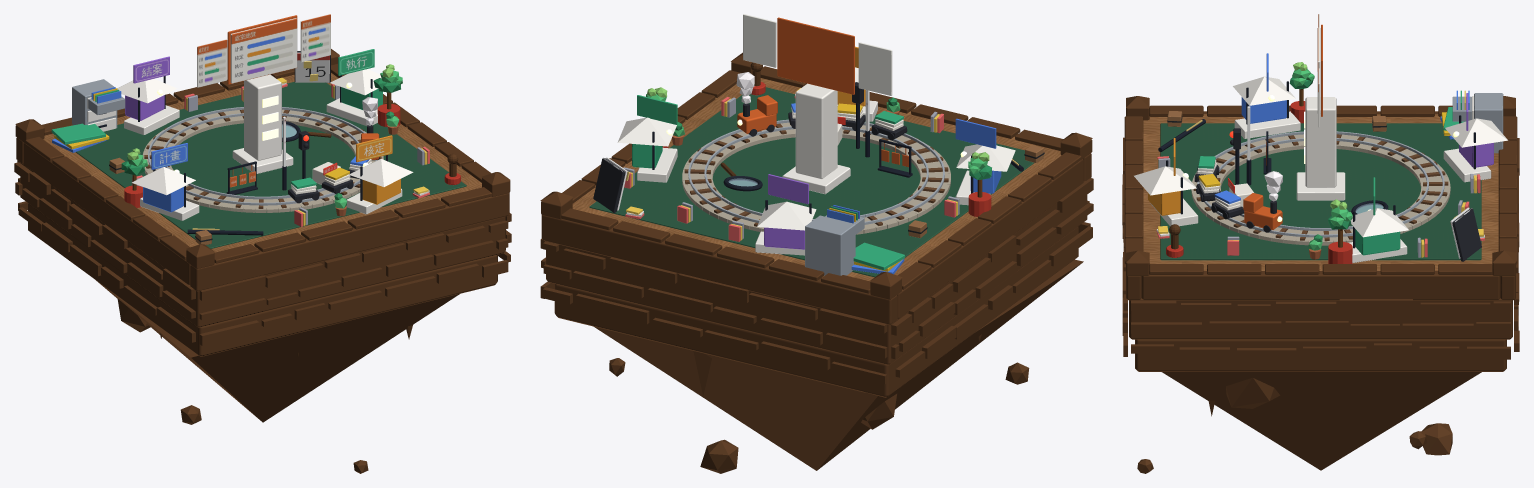
The model's file is admin.glb.
3 views of the same model, side by side, from view 1: azimuth 30°, elevation 25°; view 2: azimuth 150°, elevation 25°; view 3: azimuth 270°, elevation 25° (orthographic). The views are drawn at different scales.
Visible parts, largest first — view 1: desk_desk_dark, desk_felt, desk_white.001, desk_desk, desk_ballast, overview_overview, desk_rail, props_props_palette, desk_pen, fxhide_ovr_overview, fxhide_ovl_overview, desk_sleeper (+14 smaller); view 2: desk_desk_dark, desk_felt, desk_white.001, desk_desk, desk_ballast, overview_engine, props_props_palette, desk_cabinet, desk_rail, desk_sleeper, fxhide_ovl_overview, fxhide_ovr_overview (+11 smaller); view 3: desk_desk_dark, desk_felt, desk_white.001, desk_desk, desk_ballast, desk_rail, props_props_palette, desk_sleeper, desk_pen, desk_engine_dark, desk_cabinet, desk_stamp_red (+9 smaller).
Part boxes in pixels (box(x1,y1,x2,y2)): desk_desk_dark: box(14, 49, 511, 473); desk_felt: box(76, 82, 466, 248); desk_white.001: box(87, 69, 413, 220); desk_desk: box(43, 73, 481, 252); desk_ballast: box(143, 109, 383, 212); overview_overview: box(230, 18, 297, 83); desk_rail: box(148, 107, 376, 205); props_props_palette: box(109, 77, 429, 244); desk_pen: box(98, 75, 387, 235); fxhide_ovr_overview: box(300, 14, 330, 62); fxhide_ovl_overview: box(197, 39, 227, 87); desk_sleeper: box(144, 109, 381, 208); desk_desk_dark: box(540, 52, 1093, 473); desk_felt: box(589, 87, 1033, 277); desk_white.001: box(617, 67, 1015, 255); desk_desk: box(572, 78, 1061, 281); desk_ballast: box(682, 122, 950, 234); overview_engine: box(777, 17, 854, 94); props_props_palette: box(623, 88, 1044, 241); desk_cabinet: box(805, 215, 855, 275); desk_rail: box(688, 119, 944, 224); desk_sleeper: box(684, 123, 948, 226); fxhide_ovl_overview: box(858, 42, 892, 95); fxhide_ovr_overview: box(743, 14, 776, 67); desk_desk_dark: box(1122, 96, 1519, 473); desk_felt: box(1160, 123, 1481, 260); desk_white.001: box(1134, 76, 1507, 262); desk_desk: box(1143, 114, 1498, 270); desk_ballast: box(1191, 134, 1450, 245); desk_rail: box(1197, 131, 1444, 237); props_props_palette: box(1156, 111, 1484, 259); desk_sleeper: box(1193, 134, 1448, 241); desk_pen: box(1158, 81, 1475, 248); desk_engine_dark: box(1230, 128, 1481, 261); desk_cabinet: box(1474, 93, 1503, 153); desk_stamp_red: box(1166, 101, 1352, 263).
Size of the model in its own units: 4.08 by 4.85 by 4.08.
40 materials, 16 textured.
